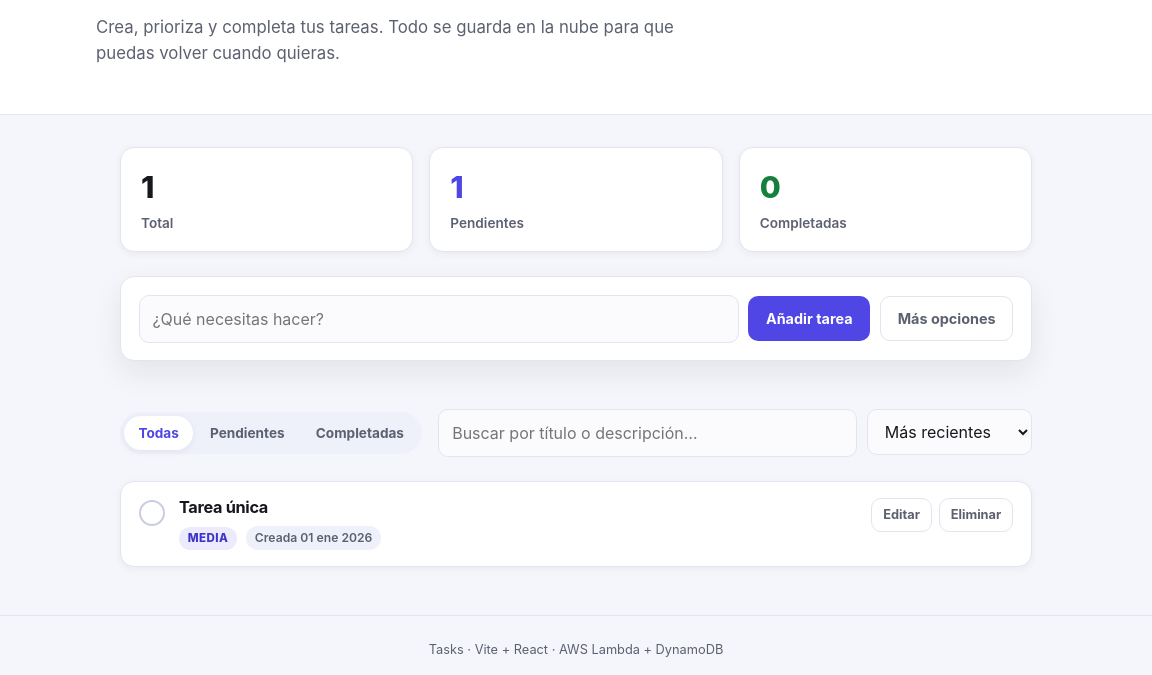
it: App › toggles a task and deletes it after confirmation
(page scrolled)
Check: the heading "Tarea única" is shown, box [179,497,268,517]
Step 1. Click the checkbox named "Marcar Tarea única como completada" → (152, 513), box [139,500,165,526]
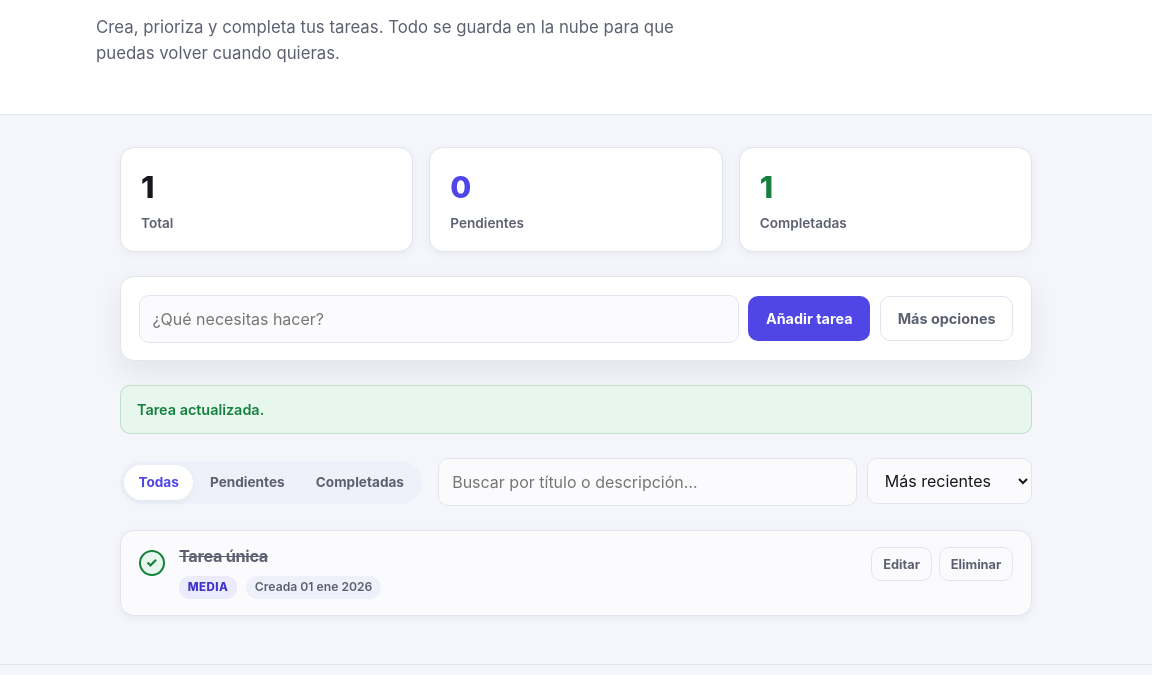
Step 2. Click the button "Eliminar" → (976, 564), box [939,547,1013,581]
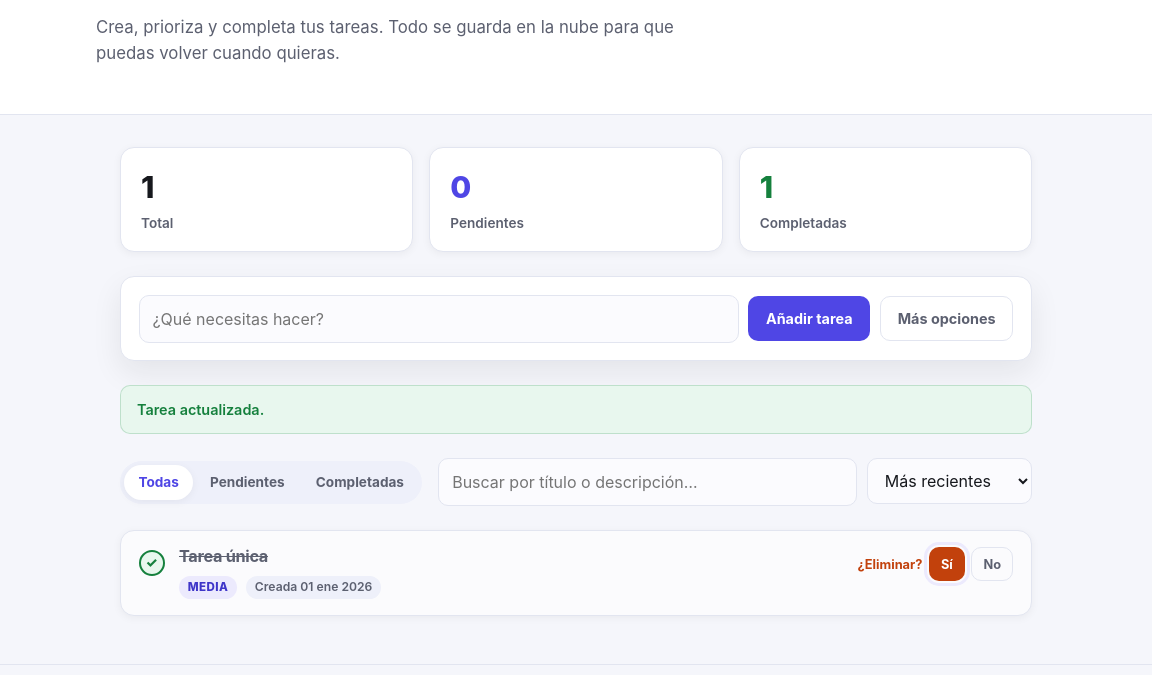
Step 3. Click the button "Sí" → (947, 564), box [929,547,965,581]
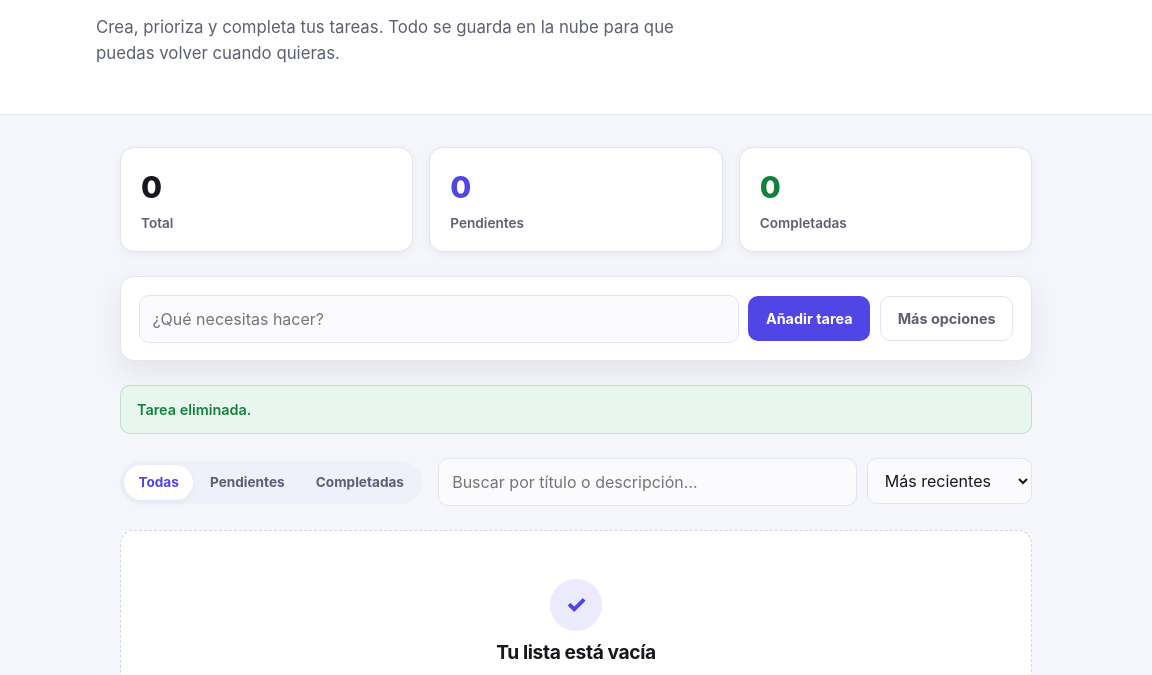
Check: the heading "Tarea única" is gone
